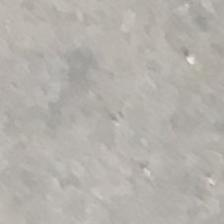Non_Crack: (14, 16, 205, 222)
